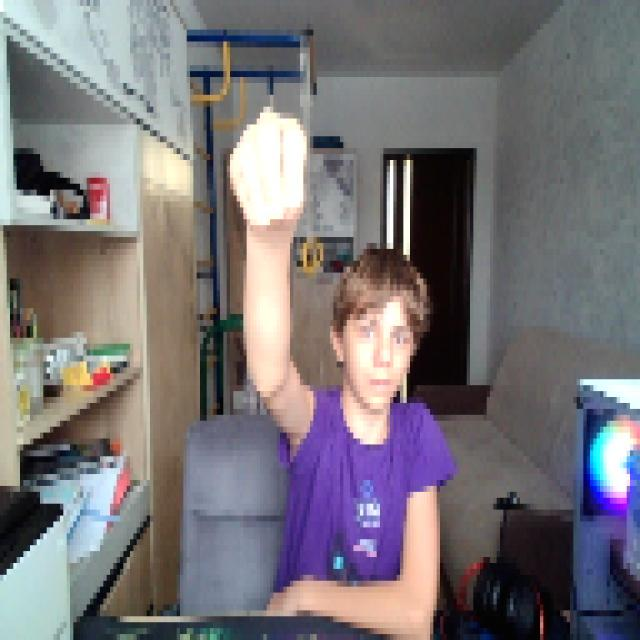left_click: (227, 101, 303, 219)
